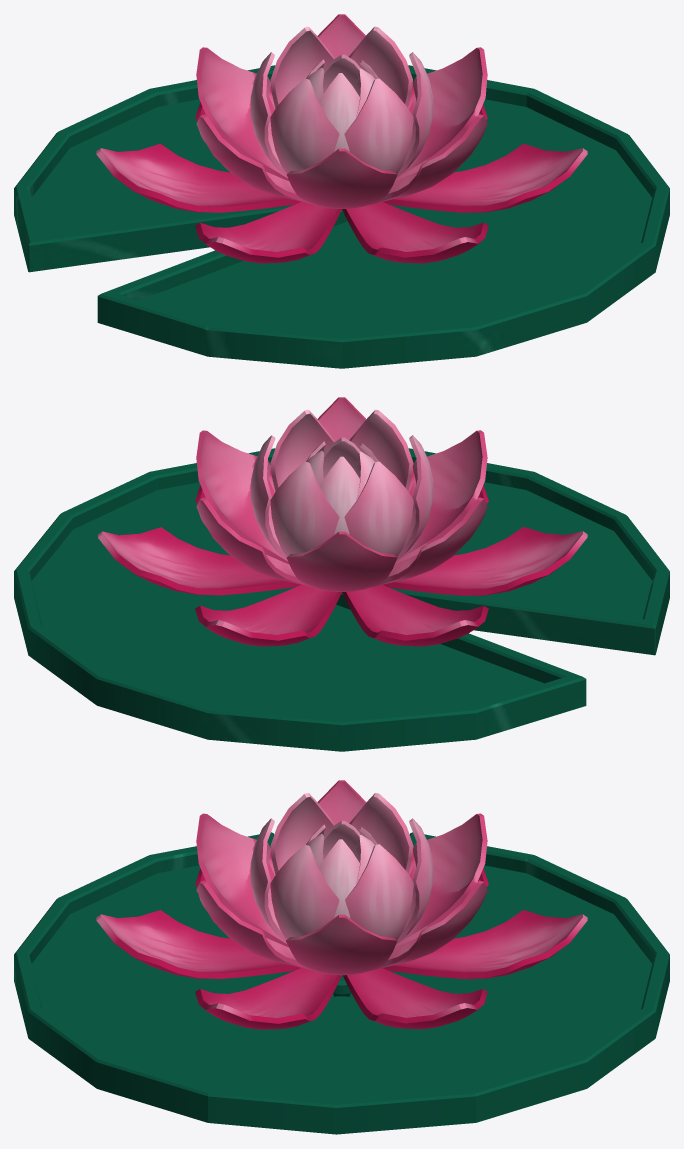
3 renders of one model, top to bottom at view 1: azimuth 30°, elevation 25°; view 2: azimuth 150°, elevation 25°; view 3: azimuth 270°, elevation 25°, orthographic.
Parts seen in each view (by area): view 1: 30ec9edc; view 2: 30ec9edc; view 3: 30ec9edc.
Part boxes in pixels (<box>): 30ec9edc: <box>14,14,669,368</box>; 30ec9edc: <box>14,397,669,751</box>; 30ec9edc: <box>14,780,669,1134</box>.
Size of the model in its own units: 0.1543 by 0.0462 by 0.1555.
Materials: 5 (5 with a texture image).
